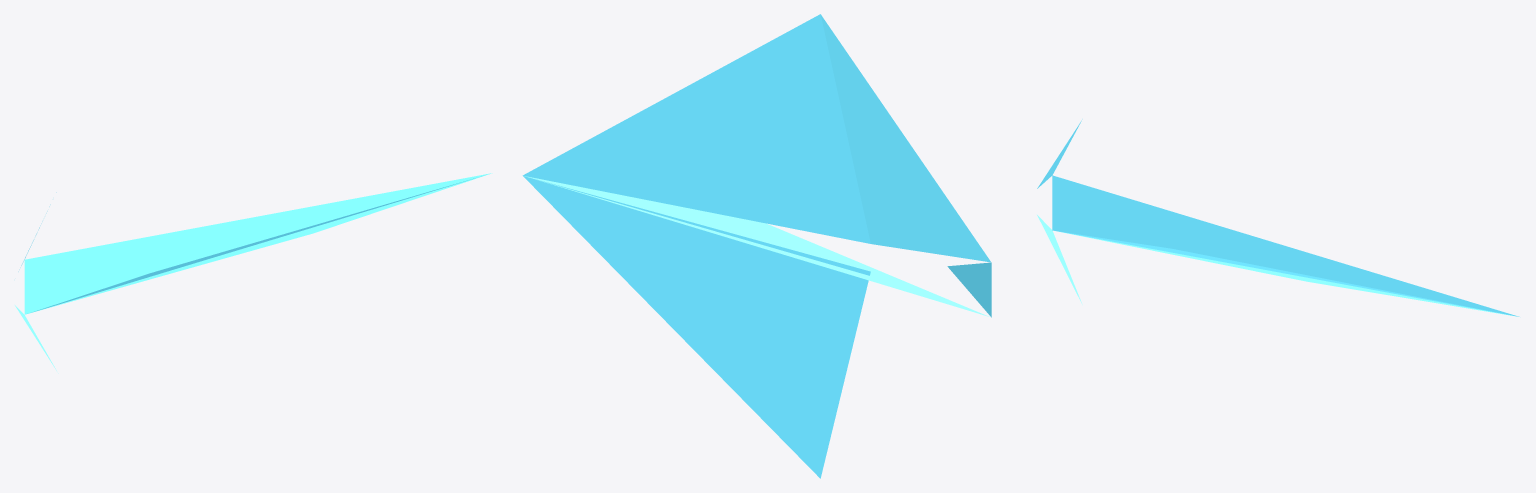
File: aircraft.gltf
3 renders of one model, left to right at view 1: azimuth 30°, elevation 25°; view 2: azimuth 150°, elevation 25°; view 3: azimuth 330°, elevation 25°, orthographic.
Bounding box in the file's own units: 2.93 × 2.7 × 0.18.
